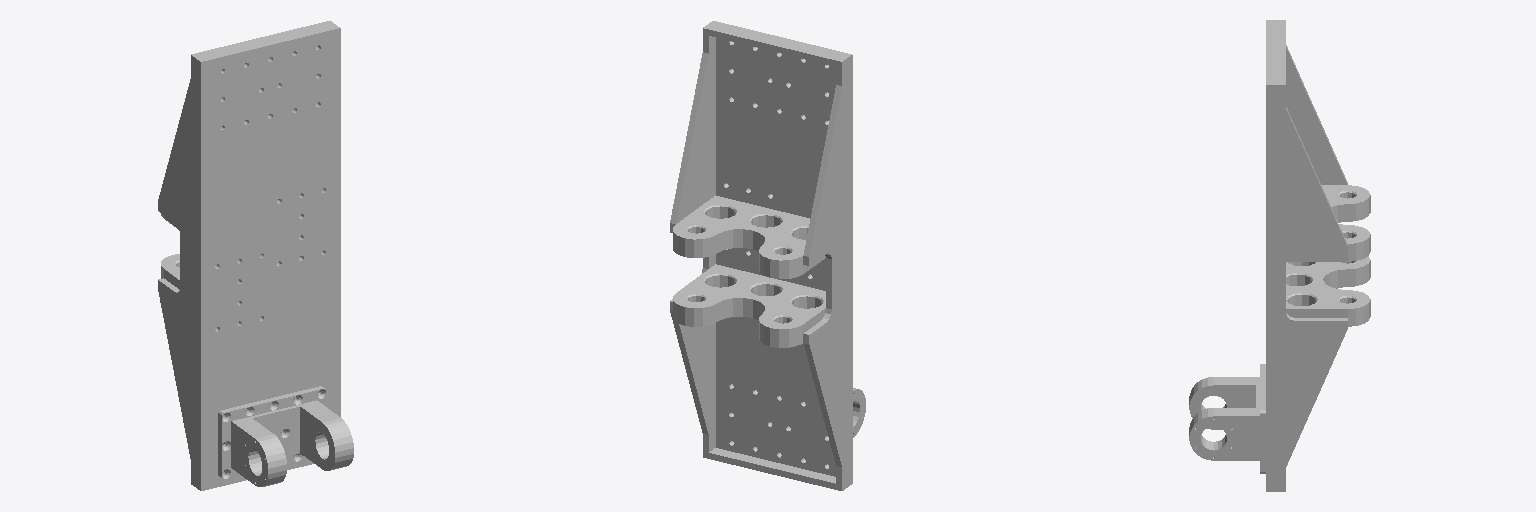
URDF robot description (ur5):
<?xml version="1.0" ?>
<!-- =================================================================================== -->
<!-- |    This document was autogenerated by xacro from ur.urdf.xacro                  | -->
<!-- |    EDITING THIS FILE BY HAND IS NOT RECOMMENDED                                 | -->
<!-- =================================================================================== -->
<robot name="ur5">

  <!-- Add URDF transmission elements (for ros_control) -->
  <!--<xacro:ur_arm_transmission prefix="${prefix}" hw_interface="${transmission_hw_interface}" />-->
  <!-- Placeholder for ros2_control transmission which don't yet exist -->
  <!-- links -  main serial chain -->
  <link name="world"/>
  <link name="base_link"/>
  <link name="base_link_inertia">
    <visual>
      <origin rpy="0 0 3.141592653589793" xyz="0 0 0"/>
      <geometry>
        <mesh filename="package://moveit_resources_ur5_description/meshes/visual/base.dae"/>
      </geometry>
    </visual>
    <collision>
      <origin rpy="0 0 3.141592653589793" xyz="0 0 0"/>
      <geometry>
        <mesh filename="package://moveit_resources_ur5_description/meshes/collision/base.stl"/>
      </geometry>
    </collision>
    <inertial>
      <mass value="4.0"/>
      <origin rpy="0 0 0" xyz="0 0 0"/>
      <inertia ixx="0.00443333156" ixy="0.0" ixz="0.0" iyy="0.00443333156" iyz="0.0" izz="0.0072"/>
    </inertial>
  </link>
  <link name="shoulder_link">
    <visual>
      <origin rpy="0 0 3.141592653589793" xyz="0 0 0"/>
      <geometry>
        <mesh filename="package://moveit_resources_ur5_description/meshes/visual/shoulder.dae"/>
      </geometry>
    </visual>
    <collision>
      <origin rpy="0 0 3.141592653589793" xyz="0 0 0"/>
      <geometry>
        <mesh filename="package://moveit_resources_ur5_description/meshes/collision/shoulder.stl"/>
      </geometry>
    </collision>
    <inertial>
      <mass value="3.7"/>
      <origin rpy="0 0 0" xyz="0 0 0"/>
      <inertia ixx="0.014972352344389999" ixy="0.0" ixz="0.0" iyy="0.014972352344389999" iyz="0.0" izz="0.01040625"/>
    </inertial>
  </link>
  <link name="upper_arm_link">
    <visual>
      <origin rpy="1.5707963267948966 0 -1.5707963267948966" xyz="0 0 0.13585"/>
      <geometry>
        <mesh filename="package://moveit_resources_ur5_description/meshes/visual/upperarm.dae"/>
      </geometry>
    </visual>
    <collision>
      <origin rpy="1.5707963267948966 0 -1.5707963267948966" xyz="0 0 0.13585"/>
      <geometry>
        <mesh filename="package://moveit_resources_ur5_description/meshes/collision/upperarm.stl"/>
      </geometry>
    </collision>
    <inertial>
      <mass value="8.393"/>
      <origin rpy="0 1.5707963267948966 0" xyz="-0.2125 0.0 0.136"/>
      <inertia ixx="0.1338857818623325" ixy="0.0" ixz="0.0" iyy="0.1338857818623325" iyz="0.0" izz="0.0151074"/>
    </inertial>
  </link>
  <link name="forearm_link">
    <visual>
      <origin rpy="1.5707963267948966 0 -1.5707963267948966" xyz="0 0 0.0165"/>
      <geometry>
        <mesh filename="package://moveit_resources_ur5_description/meshes/visual/forearm.dae"/>
      </geometry>
    </visual>
    <collision>
      <origin rpy="1.5707963267948966 0 -1.5707963267948966" xyz="0 0 0.0165"/>
      <geometry>
        <mesh filename="package://moveit_resources_ur5_description/meshes/collision/forearm.stl"/>
      </geometry>
    </collision>
    <inertial>
      <mass value="2.275"/>
      <origin rpy="0 1.5707963267948966 0" xyz="-0.196125 0.0 0.0165"/>
      <inertia ixx="0.03121679102890359" ixy="0.0" ixz="0.0" iyy="0.03121679102890359" iyz="0.0" izz="0.004095"/>
    </inertial>
  </link>
  <link name="wrist_1_link">
    <visual>
      <origin rpy="1.5707963267948966 0 0" xyz="0 0 -0.093"/>
      <geometry>
        <mesh filename="package://moveit_resources_ur5_description/meshes/visual/wrist1.dae"/>
      </geometry>
    </visual>
    <collision>
      <origin rpy="1.5707963267948966 0 0" xyz="0 0 -0.093"/>
      <geometry>
        <mesh filename="package://moveit_resources_ur5_description/meshes/collision/wrist1.stl"/>
      </geometry>
    </collision>
    <inertial>
      <mass value="1.219"/>
      <origin rpy="0 0 0" xyz="0 0 0"/>
      <inertia ixx="0.0020138887777775" ixy="0.0" ixz="0.0" iyy="0.0020138887777775" iyz="0.0" izz="0.0021942"/>
    </inertial>
  </link>
  <link name="wrist_2_link">
    <visual>
      <origin rpy="0 0 0" xyz="0 0 -0.095"/>
      <geometry>
        <mesh filename="package://moveit_resources_ur5_description/meshes/visual/wrist2.dae"/>
      </geometry>
    </visual>
    <collision>
      <origin rpy="0 0 0" xyz="0 0 -0.095"/>
      <geometry>
        <mesh filename="package://moveit_resources_ur5_description/meshes/collision/wrist2.stl"/>
      </geometry>
    </collision>
    <inertial>
      <mass value="1.219"/>
      <origin rpy="0 0 0" xyz="0 0 0"/>
      <inertia ixx="0.0018310388509175" ixy="0.0" ixz="0.0" iyy="0.0018310388509175" iyz="0.0" izz="0.0021942"/>
    </inertial>
  </link>
  <link name="wrist_3_link">
    <visual>
      <origin rpy="1.5707963267948966 0 0" xyz="0 0 -0.0818"/>
      <geometry>
        <mesh filename="package://moveit_resources_ur5_description/meshes/visual/wrist3.dae"/>
      </geometry>
    </visual>
    <collision>
      <origin rpy="1.5707963267948966 0 0" xyz="0 0 -0.0818"/>
      <geometry>
        <mesh filename="package://moveit_resources_ur5_description/meshes/collision/wrist3.stl"/>
      </geometry>
    </collision>
    <inertial>
      <mass value="0.1879"/>
      <origin rpy="0 0 0" xyz="0.0 0.0 -0.01525"/>
      <inertia ixx="8.062472608343e-05" ixy="0.0" ixz="0.0" iyy="8.062472608343e-05" iyz="0.0" izz="0.0001321171875"/>
    </inertial>
  </link>
  <!-- base_joint fixes base_link to the environment -->
  <joint name="base_joint" type="fixed">
    <origin rpy="0 0 0" xyz="0 0 0"/>
    <parent link="world"/>
    <child link="base_link"/>
  </joint>
  <!-- joints - main serial chain -->
  <joint name="base_link-base_link_inertia" type="fixed">
    <parent link="base_link"/>
    <child link="base_link_inertia"/>
    <!-- 'base_link' is REP-103 aligned (so X+ forward), while the internal
           frames of the robot/controller have X+ pointing backwards.
           Use the joint between 'base_link' and 'base_link_inertia' (a dummy
           link/frame) to introduce the necessary rotation over Z (of pi rad).
      -->
    <origin rpy="0 0 3.141592653589793" xyz="0 0 0"/>
  </joint>
  <joint name="shoulder_pan_joint" type="revolute">
    <parent link="base_link_inertia"/>
    <child link="shoulder_link"/>
    <origin rpy="0 0 0" xyz="0 0 0.089159"/>
    <axis xyz="0 0 1"/>
    <limit effort="150.0" lower="-6.283185307179586" upper="6.283185307179586" velocity="3.141592653589793"/>
    <dynamics damping="0" friction="0"/>
  </joint>
  <joint name="shoulder_lift_joint" type="revolute">
    <parent link="shoulder_link"/>
    <child link="upper_arm_link"/>
    <origin rpy="1.570796327 0 0" xyz="0 0 0"/>
    <axis xyz="0 0 1"/>
    <limit effort="150.0" lower="-6.283185307179586" upper="6.283185307179586" velocity="3.141592653589793"/>
    <dynamics damping="0" friction="0"/>
  </joint>
  <joint name="elbow_joint" type="revolute">
    <parent link="upper_arm_link"/>
    <child link="forearm_link"/>
    <origin rpy="0 0 0" xyz="-0.425 0 0"/>
    <axis xyz="0 0 1"/>
    <limit effort="150.0" lower="-3.141592653589793" upper="3.141592653589793" velocity="3.141592653589793"/>
    <dynamics damping="0" friction="0"/>
  </joint>
  <joint name="wrist_1_joint" type="revolute">
    <parent link="forearm_link"/>
    <child link="wrist_1_link"/>
    <origin rpy="0 0 0" xyz="-0.39225 0 0.10915"/>
    <axis xyz="0 0 1"/>
    <limit effort="28.0" lower="-6.283185307179586" upper="6.283185307179586" velocity="3.141592653589793"/>
    <dynamics damping="0" friction="0"/>
  </joint>
  <joint name="wrist_2_joint" type="revolute">
    <parent link="wrist_1_link"/>
    <child link="wrist_2_link"/>
    <origin rpy="1.570796327 0 0" xyz="0 -0.09465 -1.941303950897609e-11"/>
    <axis xyz="0 0 1"/>
    <limit effort="28.0" lower="-6.283185307179586" upper="6.283185307179586" velocity="3.141592653589793"/>
    <dynamics damping="0" friction="0"/>
  </joint>
  <joint name="wrist_3_joint" type="revolute">
    <parent link="wrist_2_link"/>
    <child link="wrist_3_link"/>
    <origin rpy="1.570796326589793 3.141592653589793 3.141592653589793" xyz="0 0.0823 -1.688001216681175e-11"/>
    <axis xyz="0 0 1"/>
    <limit effort="28.0" lower="-6.283185307179586" upper="6.283185307179586" velocity="3.141592653589793"/>
    <dynamics damping="0" friction="0"/>
  </joint>
  <!-- <link name="ft_frame"/>
  <joint name="wrist_3_link-ft_frame" type="fixed">
    <parent link="wrist_3_link"/>
    <child link="ft_frame"/>
    <origin rpy="3.141592653589793 0 0" xyz="0 0 0"/>
  </joint> -->
  <!-- ROS-Industrial 'base' frame - base_link to UR 'Base' Coordinates transform -->
  <!-- <link name="base"/>
  <joint name="base_link-base_fixed_joint" type="fixed"> -->
    <!-- Note the rotation over Z of pi radians - as base_link is REP-103
           aligned (i.e., has X+ forward, Y+ left and Z+ up), this is needed
           to correctly align 'base' with the 'Base' coordinate system of
           the UR controller.
      -->
    <!-- <origin rpy="0 0 3.141592653589793" xyz="0 0 0"/>
    <parent link="base_link"/>
    <child link="base"/>
  </joint> -->
  <!-- ROS-Industrial 'flange' frame - attachment point for EEF models -->
  <link name="flange"/>
  <joint name="wrist_3-flange" type="fixed">
    <parent link="wrist_3_link"/>
    <child link="flange"/>
    <origin rpy="0 -1.5707963267948966 -1.5707963267948966" xyz="0 0 0"/>
  </joint>
  <!-- ROS-Industrial 'tool0' frame - all-zeros tool frame -->
  <link name="tool0"/>
  <joint name="flange-tool0" type="fixed">
    <!-- default toolframe - X+ left, Y+ up, Z+ front -->
    <origin rpy="1.5707963267948966 0 1.5707963267948966" xyz="0 0 0"/>
    <parent link="flange"/>
    <child link="tool0"/>
  </joint>
  
  <!--onrobot gripper-->
    <link name="onrobot_rg2_base_link">
    <inertial>
      <origin rpy="0 0 0" xyz="0.0 0.0 0.0"/>
      <mass value="0.7"/>
      <inertia ixx="1.0E-03" ixy="1.0E-06" ixz="1.0E-06" iyy="1.0E-03" iyz="1.0E-06" izz="1.0E-03"/>
    </inertial>
    <visual>
      <origin rpy="0 0 0" xyz="0 0 0"/>
      <geometry>
        <mesh filename="package://moveit_resources_ur5_description/meshes/visual/base_link.stl"/>
      </geometry>
      <material name="">
        <color rgba="0.8 0.8 0.8 1"/>
      </material>
    </visual>
    <collision>
      <origin rpy="0 0 0" xyz="0 0 0"/>
      <geometry>
        <mesh filename="package://moveit_resources_ur5_description/meshes/collision/base_link.stl"/>
      </geometry>
    </collision>
  </link>
  <joint name="joint0" type="fixed">
    <parent link="tool0"/>
    <child link="onrobot_rg2_base_link"/>
    <origin rpy="0. 0. 0." xyz="0. 0. 0."/>
  </joint>

  <link name="left_outer_knuckle">
    <inertial>
      <origin rpy="0 0 0" xyz="0.0 0.0 0.0"/>
      <mass value="0.05"/>
      <inertia ixx="1.0E-03" ixy="1.0E-06" ixz="1.0E-06" iyy="1.0E-03" iyz="1.0E-06" izz="1.0E-03"/>
    </inertial>
    <visual>
      <origin rpy="0 0 0" xyz="0 0 0"/>
      <geometry>
        <mesh filename="package://moveit_resources_ur5_description/meshes/visual/outer_knuckle.stl"/>
      </geometry>
      <material name="">
        <color rgba="0.8 0.8 0.8 1"/>
      </material>
    </visual>
    <collision>
      <origin rpy="0 0 0" xyz="0 0 0"/>
      <geometry>
        <mesh filename="package://moveit_resources_ur5_description/meshes/collision/outer_knuckle.stl"/>
      </geometry>
    </collision>
  </link>

  <link name="left_inner_knuckle">
    <inertial>
      <origin rpy="0 0 0" xyz="0.0 0.0 0.0"/>
      <mass value="0.05"/>
      <inertia ixx="1.0E-03" ixy="1.0E-06" ixz="1.0E-06" iyy="1.0E-03" iyz="1.0E-06" izz="1.0E-03"/>
    </inertial>
    <visual>
      <origin rpy="0 0 0" xyz="0 0 0"/>
      <geometry>
        <mesh filename="package://moveit_resources_ur5_description/meshes/visual/inner_knuckle.stl"/>
      </geometry>
      <material name="">
        <color rgba="0.8 0.8 0.8 1"/>
      </material>
    </visual>
    <collision>
      <origin rpy="0 0 0" xyz="0 0 0"/>
      <geometry>
        <mesh filename="package://moveit_resources_ur5_description/meshes/collision/inner_knuckle.stl"/>
      </geometry>
    </collision>
  </link>

  <link name="left_inner_finger">
    <inertial>
      <origin rpy="0 0 0" xyz="0.0 0.0 0.0"/>
      <mass value="0.05"/>
      <inertia ixx="1.0E-03" ixy="1.0E-06" ixz="1.0E-06" iyy="1.0E-03" iyz="1.0E-06" izz="1.0E-03"/>
    </inertial>
    <visual>
      <origin rpy="0 0 0" xyz="0 0 0"/>
      <geometry>
        <mesh filename="package://moveit_resources_ur5_description/meshes/visual/inner_finger.stl"/>
      </geometry>
      <material name="">
        <color rgba="0.1 0.1 0.1 1"/>
      </material>
    </visual>
    <collision>
      <origin rpy="0 0 0" xyz="0 0 0"/>
      <geometry>
        <mesh filename="package://moveit_resources_ur5_description/meshes/collision/inner_finger.stl"/>
      </geometry>
    </collision>
  </link>
  <link name="right_outer_knuckle">
    <inertial>
      <origin rpy="0 0 0" xyz="0.0 0.0 0.0"/>
      <mass value="0.05"/>
      <inertia ixx="1.0E-03" ixy="1.0E-06" ixz="1.0E-06" iyy="1.0E-03" iyz="1.0E-06" izz="1.0E-03"/>
    </inertial>
    <visual>
      <origin rpy="0 0 0" xyz="0 0 0"/>
      <geometry>
        <mesh filename="package://moveit_resources_ur5_description/meshes/visual/outer_knuckle.stl"/>
      </geometry>
      <material name="">
        <color rgba="0.8 0.8 0.8 1"/>
      </material>
    </visual>
    <collision>
      <origin rpy="0 0 0" xyz="0 0 0"/>
      <geometry>
        <mesh filename="package://moveit_resources_ur5_description/meshes/collision/outer_knuckle.stl"/>
      </geometry>
    </collision>
  </link>

  <link name="right_inner_knuckle">
    <inertial>
      <origin rpy="0 0 0" xyz="0.0 0.0 0.0"/>
      <mass value="0.05"/>
      <inertia ixx="1.0E-03" ixy="1.0E-06" ixz="1.0E-06" iyy="1.0E-03" iyz="1.0E-06" izz="1.0E-03"/>
    </inertial>
    <visual>
      <origin rpy="0 0 0" xyz="0 0 0"/>
      <geometry>
        <mesh filename="package://moveit_resources_ur5_description/meshes/visual/inner_knuckle.stl"/>
      </geometry>
      <material name="">
        <color rgba="0.8 0.8 0.8 1"/>
      </material>
    </visual>
    <collision>
      <origin rpy="0 0 0" xyz="0 0 0"/>
      <geometry>
        <mesh filename="package://moveit_resources_ur5_description/meshes/collision/inner_knuckle.stl"/>
      </geometry>
    </collision>
  </link>

  <link name="right_inner_finger">
    <inertial>
      <origin rpy="0 0 0" xyz="0.0 0.0 0.0"/>
      <mass value="0.05"/>
      <inertia ixx="1.0E-03" ixy="1.0E-06" ixz="1.0E-06" iyy="1.0E-03" iyz="1.0E-06" izz="1.0E-03"/>
    </inertial>
    <visual>
      <origin rpy="0 0 0" xyz="0 0 0"/>
      <geometry>
        <mesh filename="package://moveit_resources_ur5_description/meshes/visual/inner_finger.stl"/>
      </geometry>
      <material name="">
        <color rgba="0.1 0.1 0.1 1"/>
      </material>
    </visual>
    <collision>
      <origin rpy="0 0 0" xyz="0 0 0"/>
      <geometry>
        <mesh filename="package://moveit_resources_ur5_description/meshes/collision/inner_finger.stl"/>
      </geometry>
    </collision>
  </link>

  <joint name="finger_joint" type="revolute">
    <origin rpy="0 0 0" xyz="0 -0.017178 0.125797"/>
    <parent link="onrobot_rg2_base_link"/>
    <child link="left_outer_knuckle"/>
    <axis xyz="-1 0 0"/>
    <limit effort="1000" lower="-0.558505" upper="0.785398" velocity="100.0"/>
  </joint>
  <joint name="left_inner_knuckle_joint" type="revolute">
    <origin rpy="0 0 0.0" xyz="0 -0.007678 0.1422970"/>
    <parent link="onrobot_rg2_base_link"/>
    <child link="left_inner_knuckle"/>
    <axis xyz="1 0 0"/>
    <limit effort="1000" lower="-0.785398" upper="0.785398" velocity="100.0"/>
    <mimic joint="finger_joint" multiplier="-1" offset="0"/>
  </joint>
  <joint name="left_inner_finger_joint" type="revolute">
    <origin rpy="0 0 0" xyz="0 -0.039592 0.038177000000000016"/>
    <parent link="left_outer_knuckle"/>
    <child link="left_inner_finger"/>
    <axis xyz="1 0 0"/>
    <limit effort="1000" lower="-0.872665" upper="0.872665" velocity="100.0"/>
    <mimic joint="finger_joint" multiplier="1" offset="0"/>
  </joint>
  <joint name="right_outer_knuckle_joint" type="revolute">
    <origin rpy="0 0 3.141592653589793" xyz="0 0.017178 0.125797"/>
    <parent link="onrobot_rg2_base_link"/>
    <child link="right_outer_knuckle"/>
    <axis xyz="1 0 0"/>
    <limit effort="1000" lower="-0.785398" upper="0.785398" velocity="100.0"/>
    <mimic joint="finger_joint" multiplier="-1" offset="0"/>
  </joint>
  <joint name="right_inner_knuckle_joint" type="revolute">
    <origin rpy="0 0 -3.141592653589793" xyz="0 0.007678 0.1422970"/>
    <parent link="onrobot_rg2_base_link"/>
    <child link="right_inner_knuckle"/>
    <axis xyz="1 0 0"/>
    <limit effort="1000" lower="-0.785398" upper="0.785398" velocity="100.0"/>
    <mimic joint="finger_joint" multiplier="-1" offset="0"/>
  </joint>
  <joint name="right_inner_finger_joint" type="revolute">
    <origin rpy="0 0 0" xyz="0 -0.039592 0.038177000000000016"/>
    <parent link="right_outer_knuckle"/>
    <child link="right_inner_finger"/>
    <axis xyz="1 0 0"/>
    <limit effort="1000" lower="-0.872665" upper="0.872665" velocity="100.0"/>
    <mimic joint="finger_joint" multiplier="1" offset="0"/>
  </joint>
</robot>

--- Facts derived from the render (not from the file) ---
3 views of the same robot in one strip: view 1: azimuth 30°, elevation 25°; view 2: azimuth 150°, elevation 25°; view 3: azimuth 270°, elevation 25° (orthographic).
Model ur5 with 18 links and 17 joints (12 revolute, 5 fixed), rooted at world, posed every joint at zero.
Links seen in each view (by area): view 1: onrobot_rg2_base_link; view 2: onrobot_rg2_base_link; view 3: onrobot_rg2_base_link.
Link boxes in pixels (box(x1,y1,x2,y2)): onrobot_rg2_base_link: box(158, 21, 353, 490); onrobot_rg2_base_link: box(670, 21, 865, 490); onrobot_rg2_base_link: box(1189, 20, 1370, 491).
Size in the robot's own frame: 0.2336 by 0.2772 by 0.687 metres.
Meshes: 11 distinct files referenced, 1 mesh visuals loaded (1 binary STL); not drawn: 13 (reference not matched to a file when rendering).